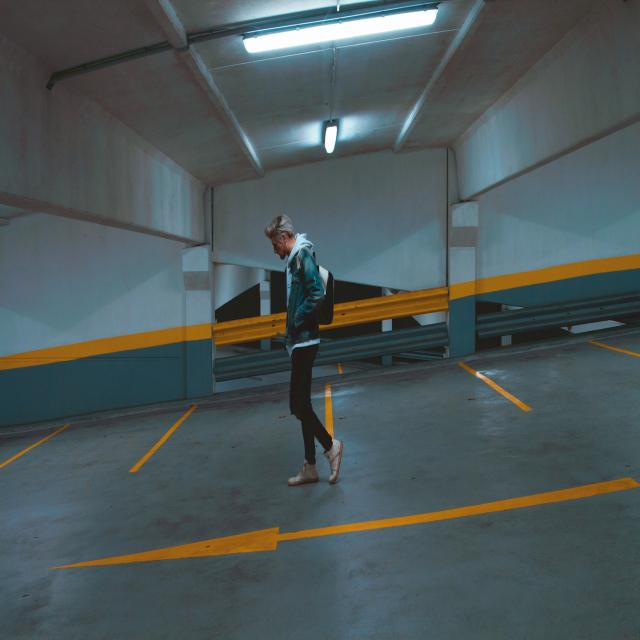adult: (264, 212, 343, 489)
